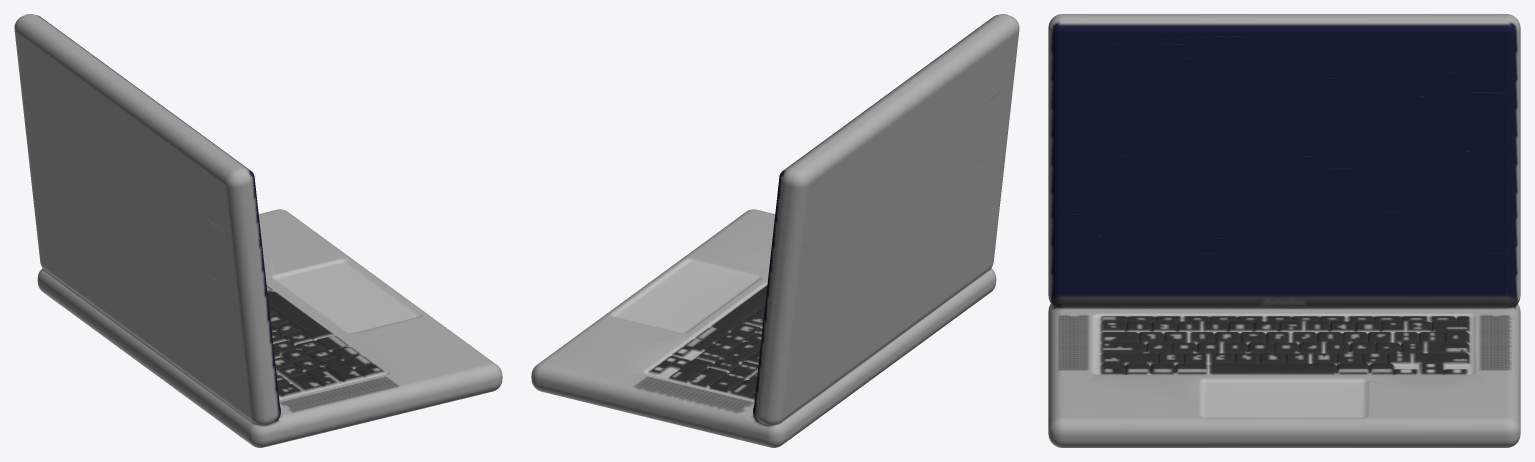
Rendered from laptop.gltf.
3 views of the same model, side by side, from view 1: azimuth 30°, elevation 25°; view 2: azimuth 150°, elevation 25°; view 3: azimuth 270°, elevation 25° (orthographic). The views are drawn at different scales.
Parts seen in each view (by area): view 1: Area (15); view 2: Area (15); view 3: Area (15).
Boxes of the visible parts, x1=… form: Area (15): x1=14, y1=14, x2=502, y2=447; Area (15): x1=531, y1=14, x2=1019, y2=447; Area (15): x1=1048, y1=14, x2=1520, y2=447.
Bounding box in the file's own units: 213 × 210 × 298.
Materials: 1 (1 with a texture image).
